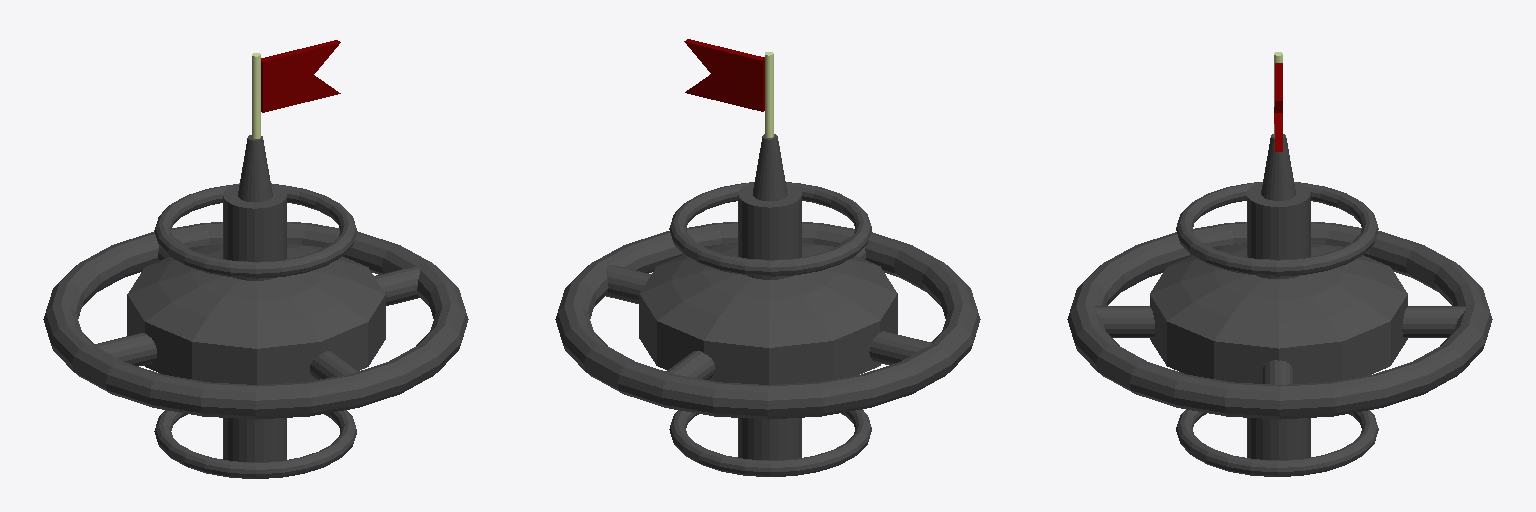
File: station.obj
3 views of the same model, side by side, from view 1: azimuth 30°, elevation 25°; view 2: azimuth 150°, elevation 25°; view 3: azimuth 270°, elevation 25° (orthographic).
Parts seen in each view (by area): view 1: OilTank001, Torus001, Cylinder005, Torus002, Torus003, Box001, Cone001, Cylinder001, Cylinder003, Cylinder004, Cylinder006; view 2: OilTank001, Torus001, Cylinder005, Torus002, Torus003, Box001, Cone001, Cylinder001, Cylinder003, Cylinder002, Cylinder006; view 3: OilTank001, Torus001, Cylinder005, Torus002, Torus003, Cylinder002, Cylinder004, Cone001, Box001, Cylinder003.
Part boxes in pixels (x1,y1,x2,y2): OilTank001: (127, 243, 385, 384); Torus001: (43, 222, 468, 419); Cylinder005: (223, 183, 286, 461); Torus002: (154, 184, 356, 278); Torus003: (154, 410, 356, 478); Box001: (261, 40, 340, 112); Cone001: (238, 135, 272, 202); Cylinder001: (94, 333, 156, 366); Cylinder003: (374, 266, 419, 305); Cylinder004: (310, 351, 357, 379); Cylinder006: (252, 53, 260, 138); OilTank001: (639, 243, 897, 384); Torus001: (555, 222, 980, 419); Cylinder005: (738, 182, 801, 460); Torus002: (669, 182, 871, 276); Torus003: (669, 409, 871, 476); Box001: (684, 39, 764, 111); Cone001: (753, 134, 787, 200); Cylinder001: (869, 331, 931, 364); Cylinder003: (606, 265, 651, 303); Cylinder002: (666, 351, 715, 379); Cylinder006: (765, 52, 773, 137); OilTank001: (1150, 243, 1407, 383); Torus001: (1067, 222, 1492, 419); Cylinder005: (1247, 182, 1310, 459); Torus002: (1176, 182, 1378, 276); Torus003: (1176, 410, 1378, 476); Cylinder002: (1402, 306, 1466, 337); Cylinder004: (1093, 306, 1154, 337); Cone001: (1261, 134, 1295, 200); Box001: (1274, 63, 1282, 151); Cylinder003: (1262, 360, 1293, 384).
Size of the model in its own units: 142 by 148 by 142.